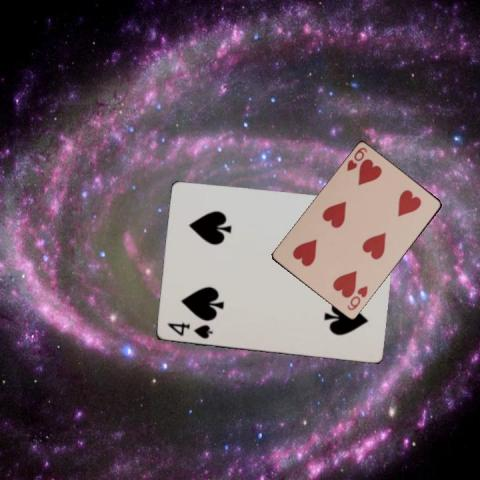4s: (164, 320, 214, 341)
6h: (343, 144, 369, 172), (344, 283, 369, 312)
